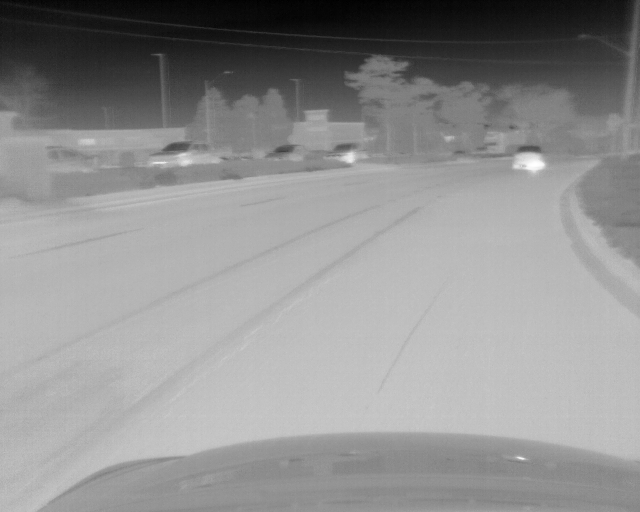car: (149, 141, 214, 165), (48, 144, 94, 171), (512, 144, 543, 171), (324, 143, 361, 163), (262, 144, 306, 158)
